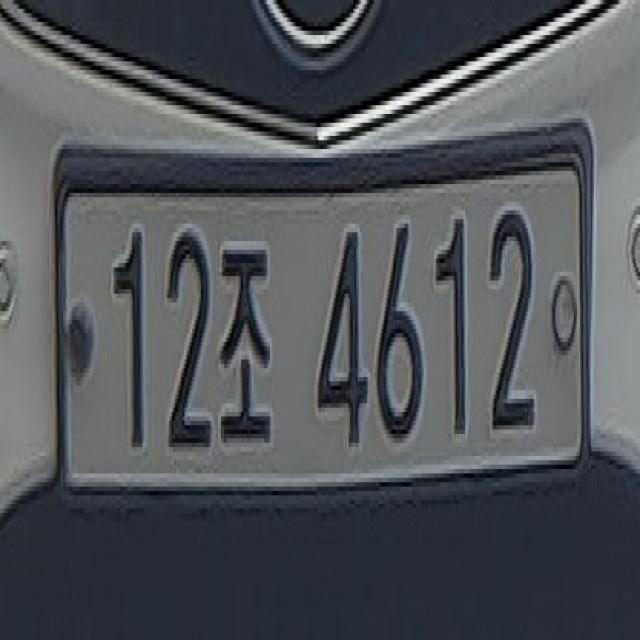plat: (52, 118, 594, 501)
